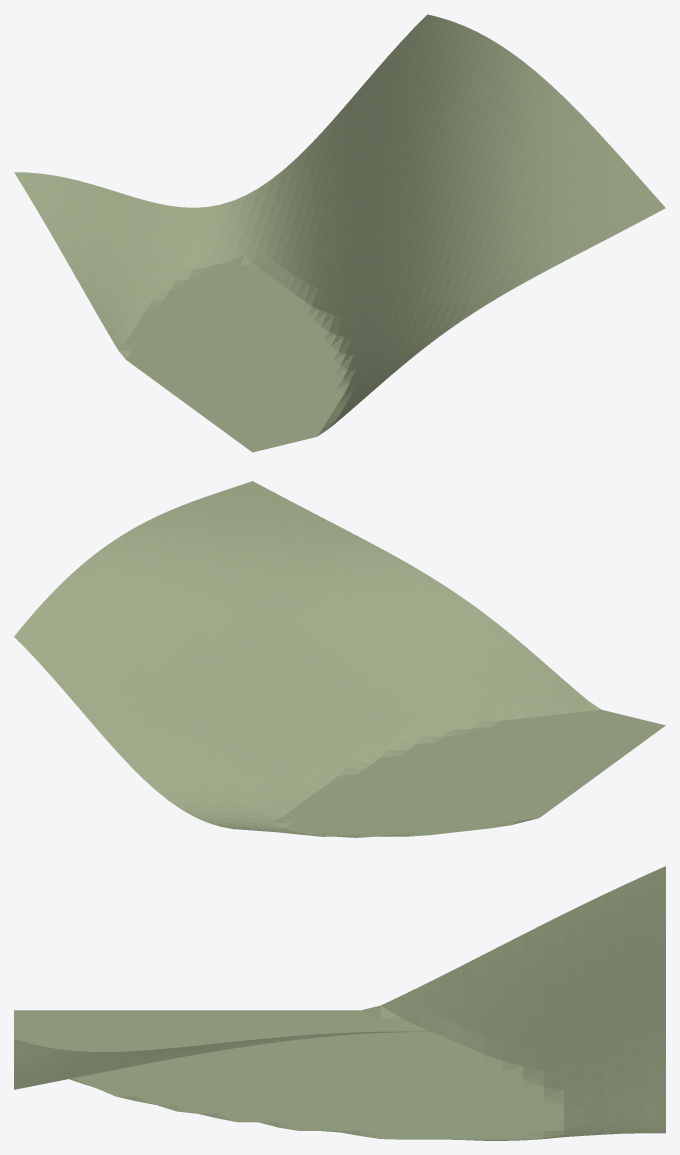
The model's file is expanse-13-14.glb.
The picture shows the model from 3 angles, top to bottom: view 1: azimuth 30°, elevation 25°; view 2: azimuth 150°, elevation 25°; view 3: azimuth 270°, elevation 25°; orthographic projection. The views are drawn at different scales.
Parts seen in each view (by area): view 1: expanse-13-14; view 2: expanse-13-14; view 3: expanse-13-14.
Part boxes in pixels (left/top/right/bottom): expanse-13-14: left=14, top=14, right=665, bottom=452; expanse-13-14: left=14, top=481, right=665, bottom=837; expanse-13-14: left=14, top=866, right=665, bottom=1140.
Bounding box in the file's own units: 256 × 110 × 256.
